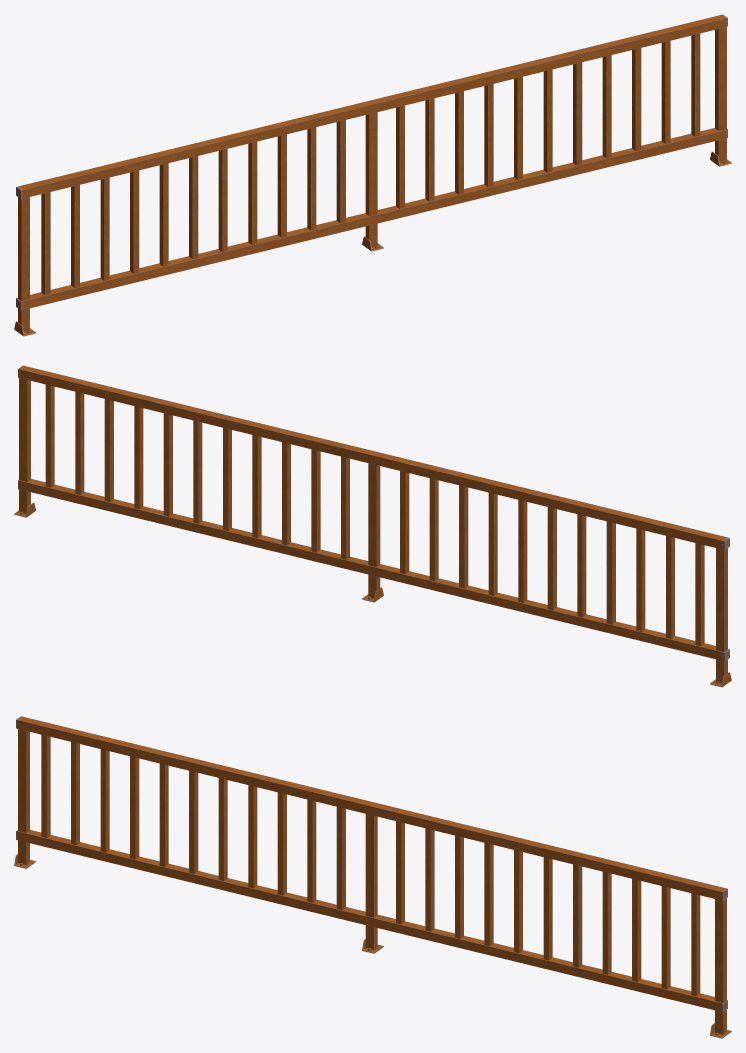
The model's file is fence.fbx.
3 renders of one model, top to bottom at view 1: azimuth 30°, elevation 25°; view 2: azimuth 150°, elevation 25°; view 3: azimuth 330°, elevation 25°, orthographic.
Parts seen in each view (by area): view 1: Fence; view 2: Fence; view 3: Fence.
Part boxes in pixels (left/top/right/bottom): Fence: left=14, top=14, right=731, bottom=336; Fence: left=14, top=365, right=731, bottom=687; Fence: left=14, top=716, right=731, bottom=1038.
Size of the model in its own units: 1222 by 238 by 29.17.
Materials: 1 (1 with a texture image).
